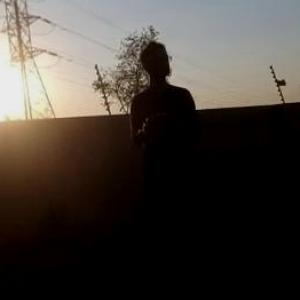follow: (126, 33, 226, 285)
